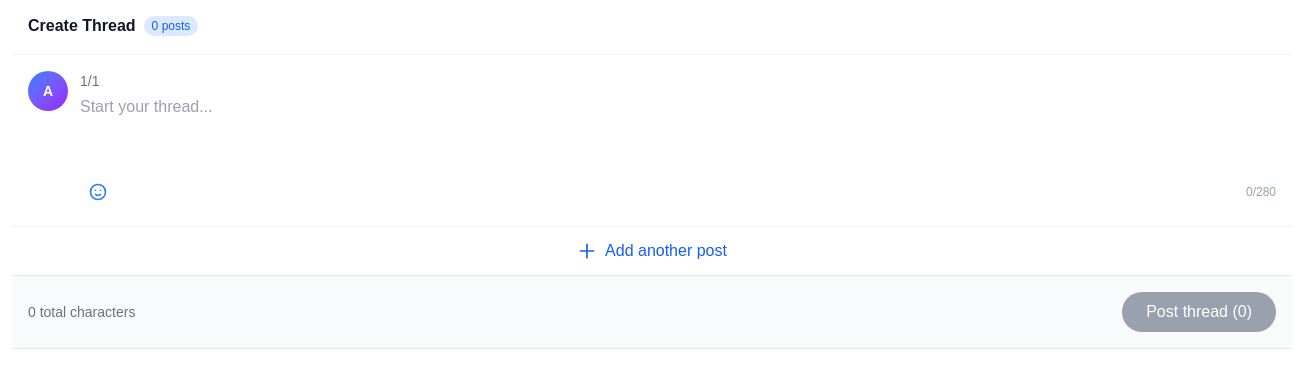
Scenario: ThreadComposer › canSubmit › submit enabled with valid content
In the text box with placeholder "Start your thread...": x=678, y=131 [80,95,1276,167], type "Hello thread"
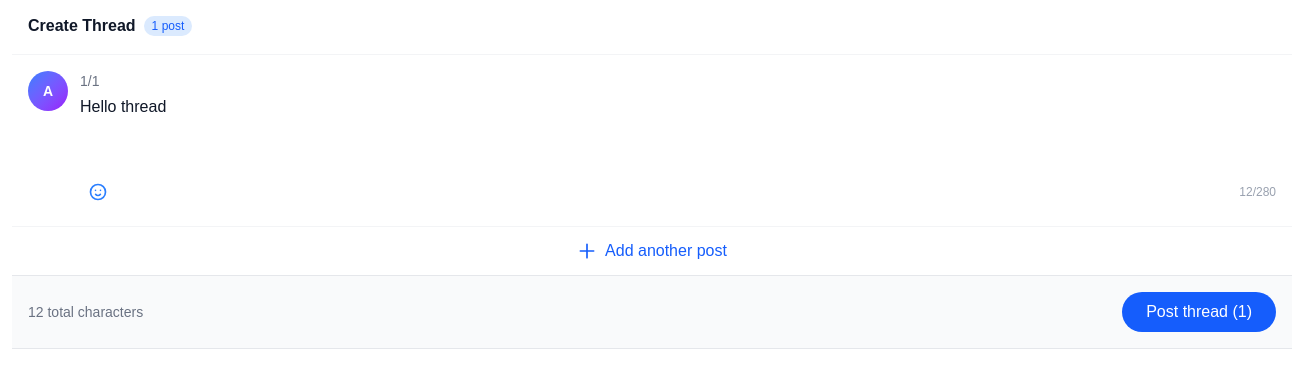
Now the button "Post thread (1)" is enabled, box [1122,292,1276,332]
